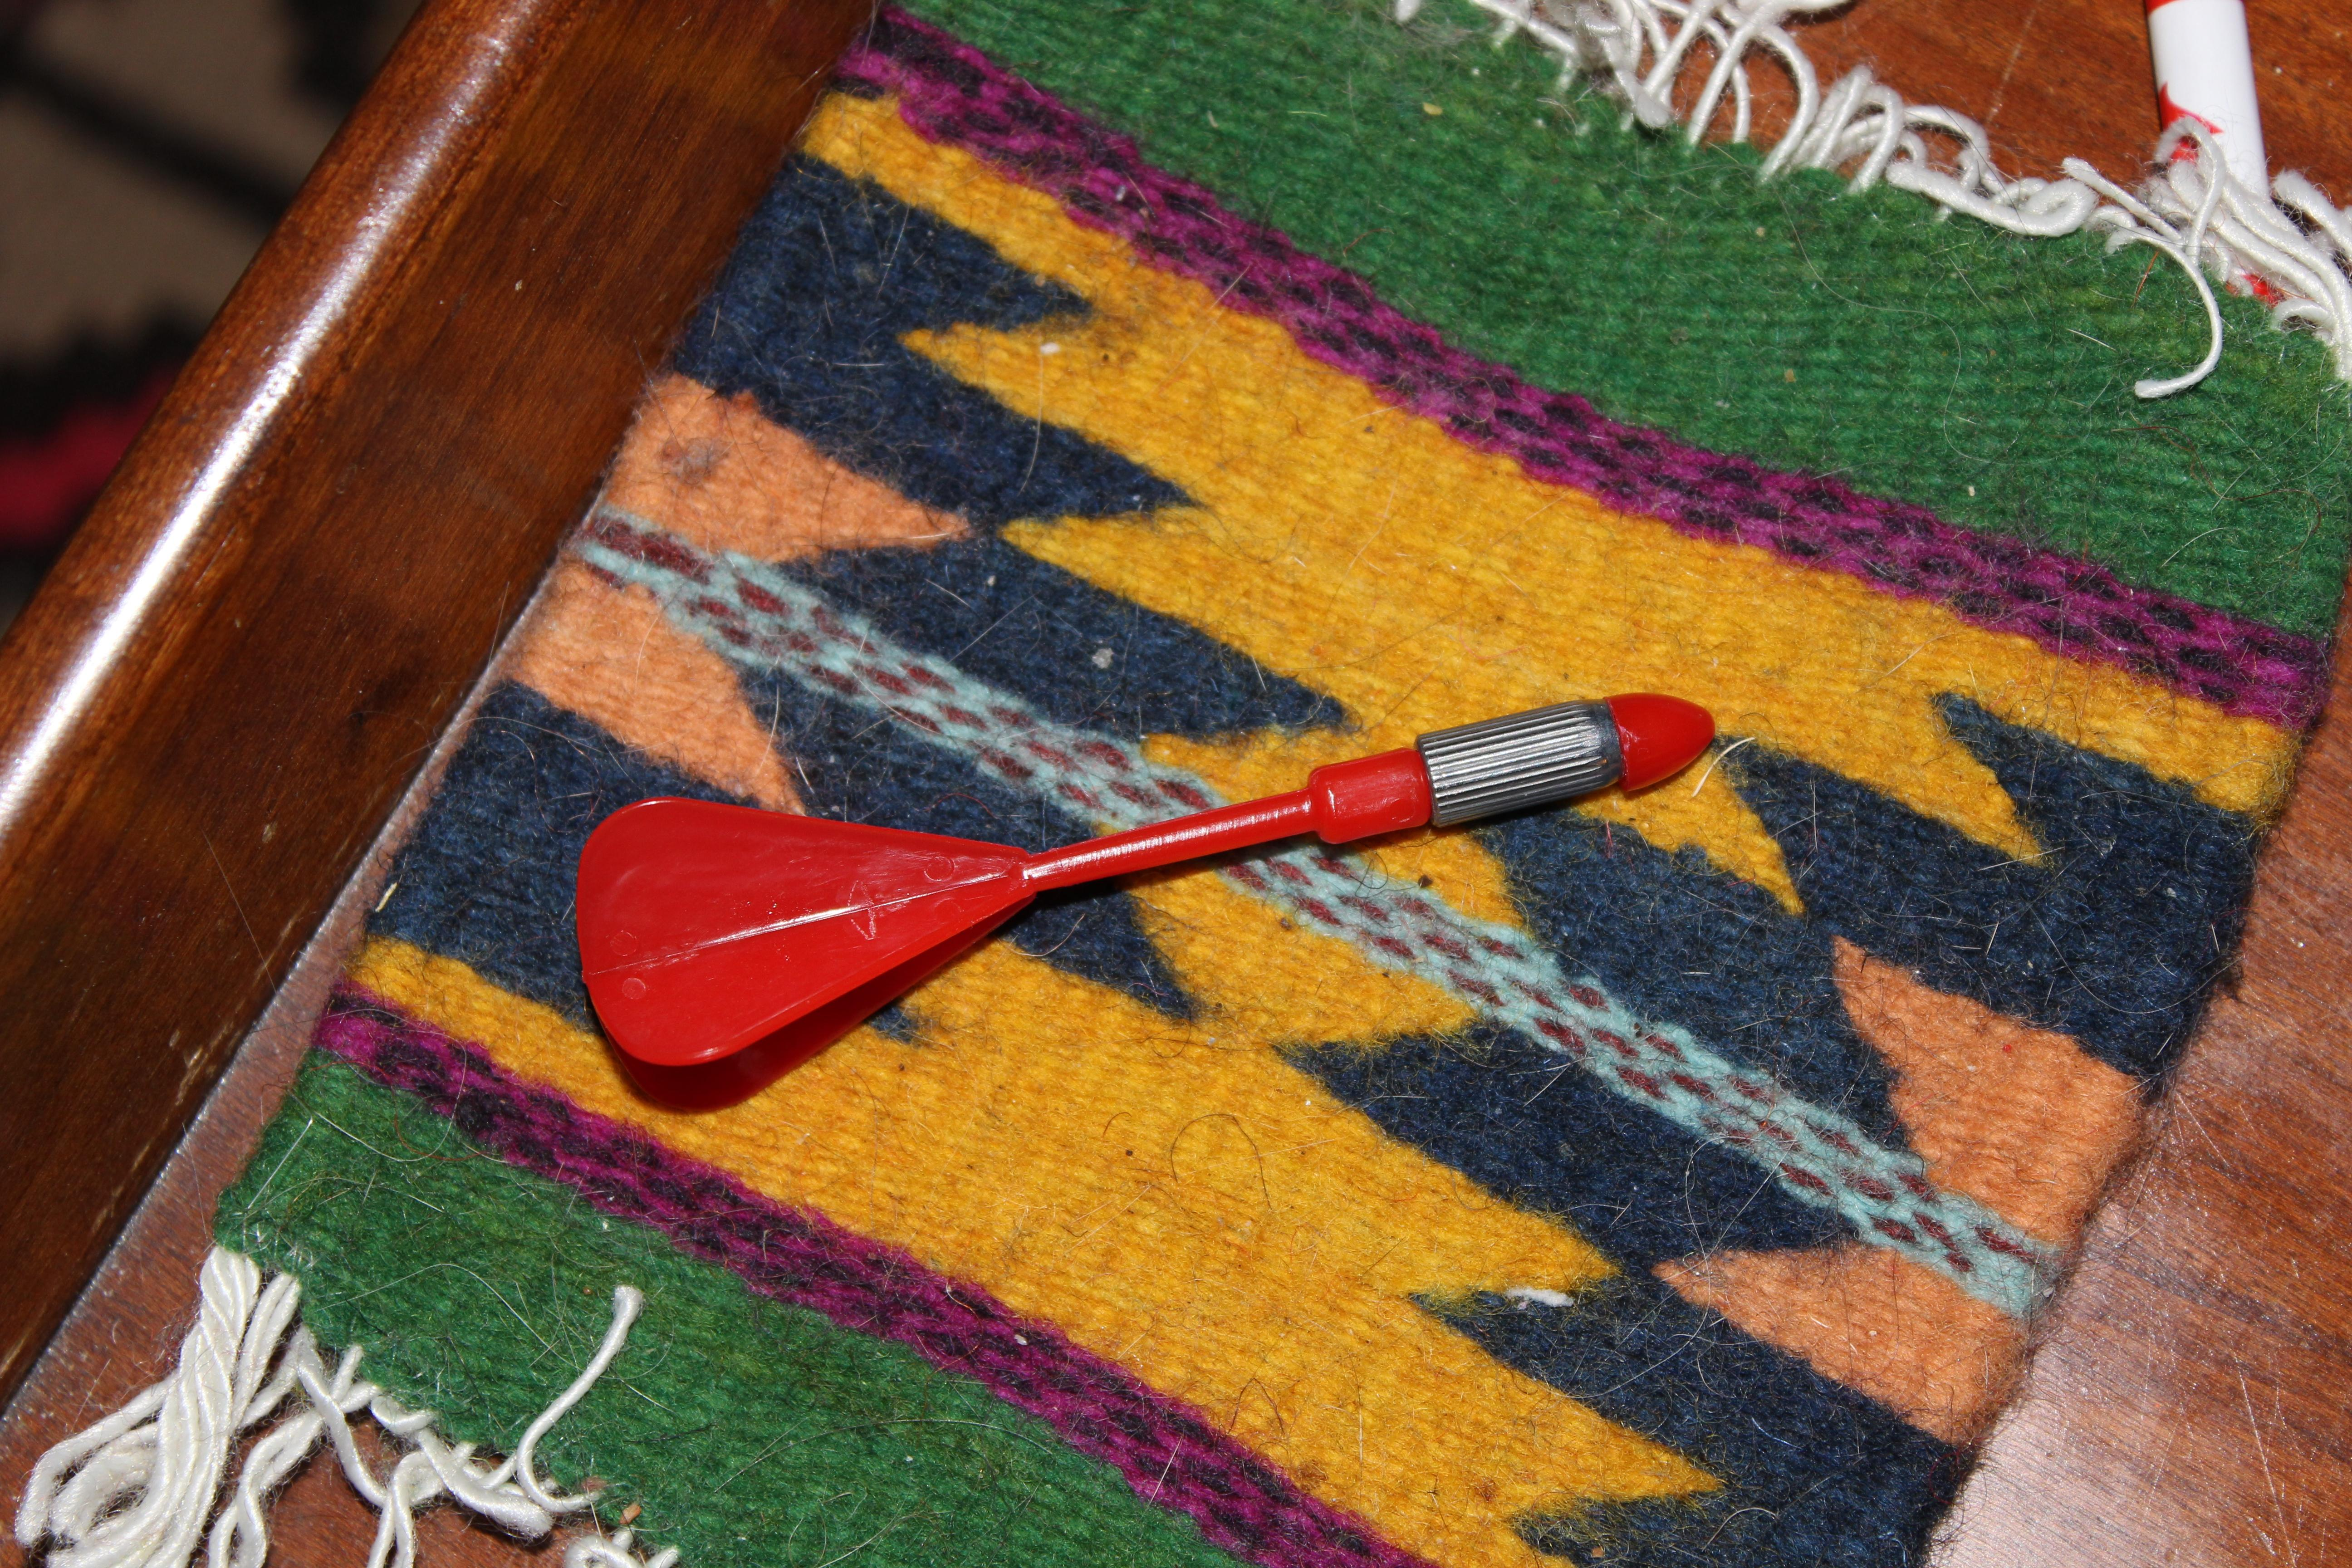redDart: (535, 653, 1748, 1144)
